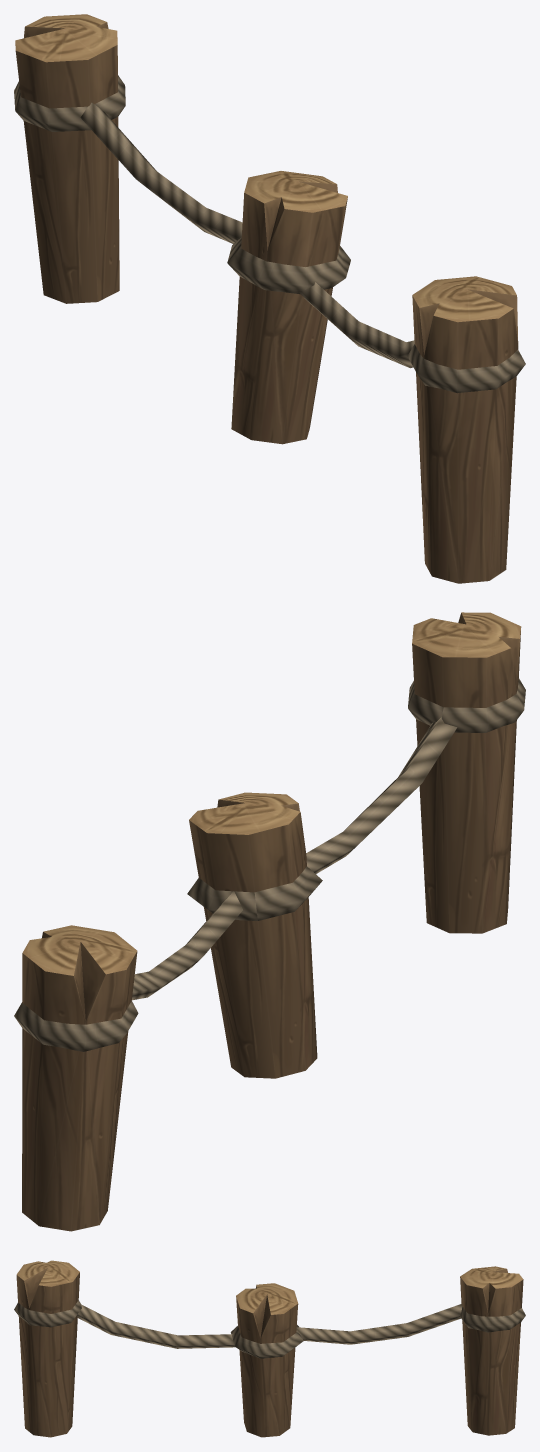
File: Barrier1.fbx
3 renders of one model, top to bottom at view 1: azimuth 30°, elevation 25°; view 2: azimuth 150°, elevation 25°; view 3: azimuth 270°, elevation 25°, orthographic. The views are drawn at different scales.
Visible parts, largest first — view 1: polySurface1603; view 2: polySurface1603; view 3: polySurface1603.
Part boxes in pixels (x1,y1,x2,y2): polySurface1603: (14,14,525,583); polySurface1603: (14,612,525,1231); polySurface1603: (14,1260,525,1437).
Bounding box in the file's own units: 33.85 × 69.44 × 199.
Materials: 1 (1 with a texture image).
